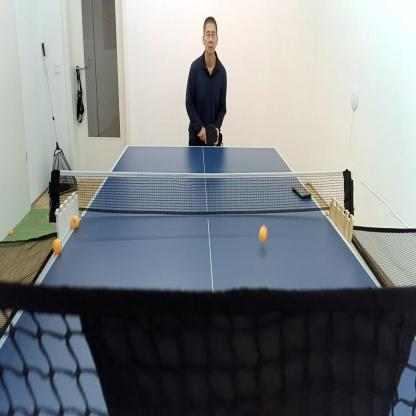Ball: (258, 224, 268, 243), (52, 238, 62, 255), (71, 216, 80, 230), (9, 228, 14, 236)
